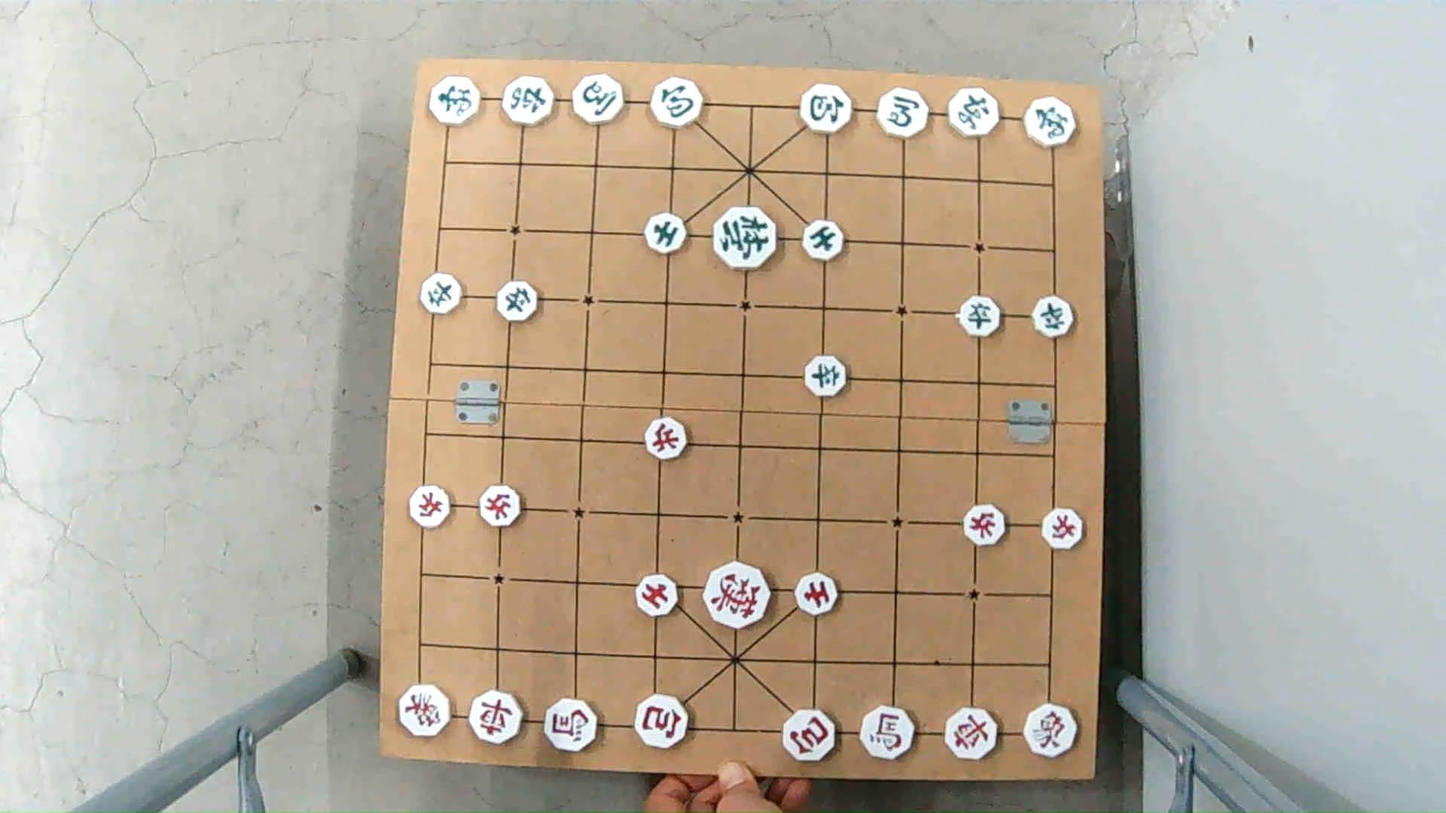cha_green: (947, 89, 1004, 136), (502, 78, 557, 125)
cha_red: (943, 708, 1002, 757), (469, 693, 527, 742)
jol_green: (801, 356, 848, 395), (422, 276, 471, 312), (493, 284, 539, 322), (956, 299, 1002, 336), (1030, 299, 1074, 336)
jol_red: (477, 487, 524, 525), (1037, 511, 1084, 549), (960, 507, 1008, 544), (641, 421, 688, 458), (406, 488, 453, 525)
ma_green: (570, 78, 627, 124), (874, 90, 931, 136)
ma_red: (541, 701, 601, 751), (857, 708, 917, 756)
po_green: (650, 80, 707, 125), (801, 86, 854, 133)
po_red: (631, 697, 691, 748), (780, 711, 840, 760)
sa_green: (642, 215, 688, 253), (801, 227, 849, 263)
sa_red: (792, 572, 842, 617), (633, 576, 682, 614)
sang_green: (428, 78, 484, 125), (1023, 99, 1077, 144)
sang_red: (1023, 705, 1081, 754), (396, 691, 454, 738)
wang_green: (710, 209, 778, 264)
wang_red: (701, 564, 772, 626)
